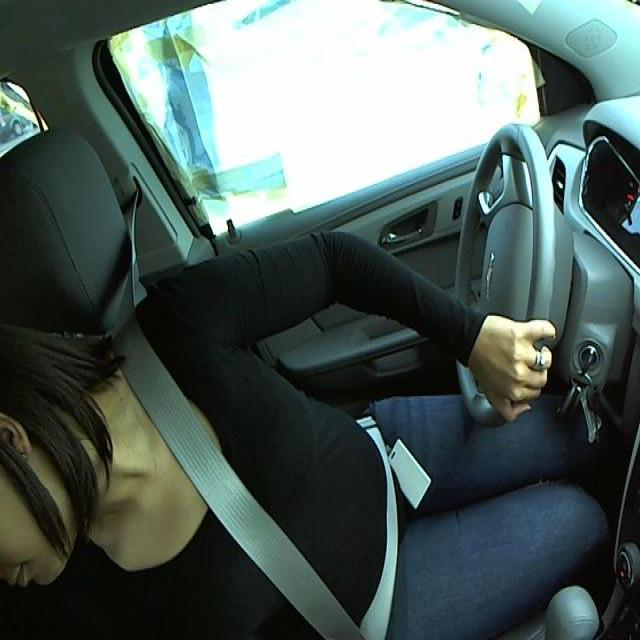seatbelt: (114, 360, 408, 639)
